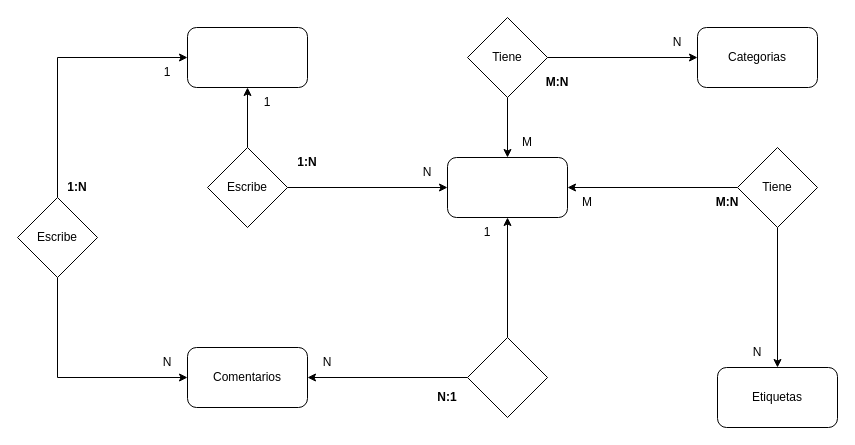
Some shapes in this 855 by 445 pixel diagram are drawn without their labels. Each missing label, with the box of its shape:
Posts: (446, 156, 568, 218)
Tienen: (466, 336, 548, 418)
Usuarios: (186, 26, 308, 88)
